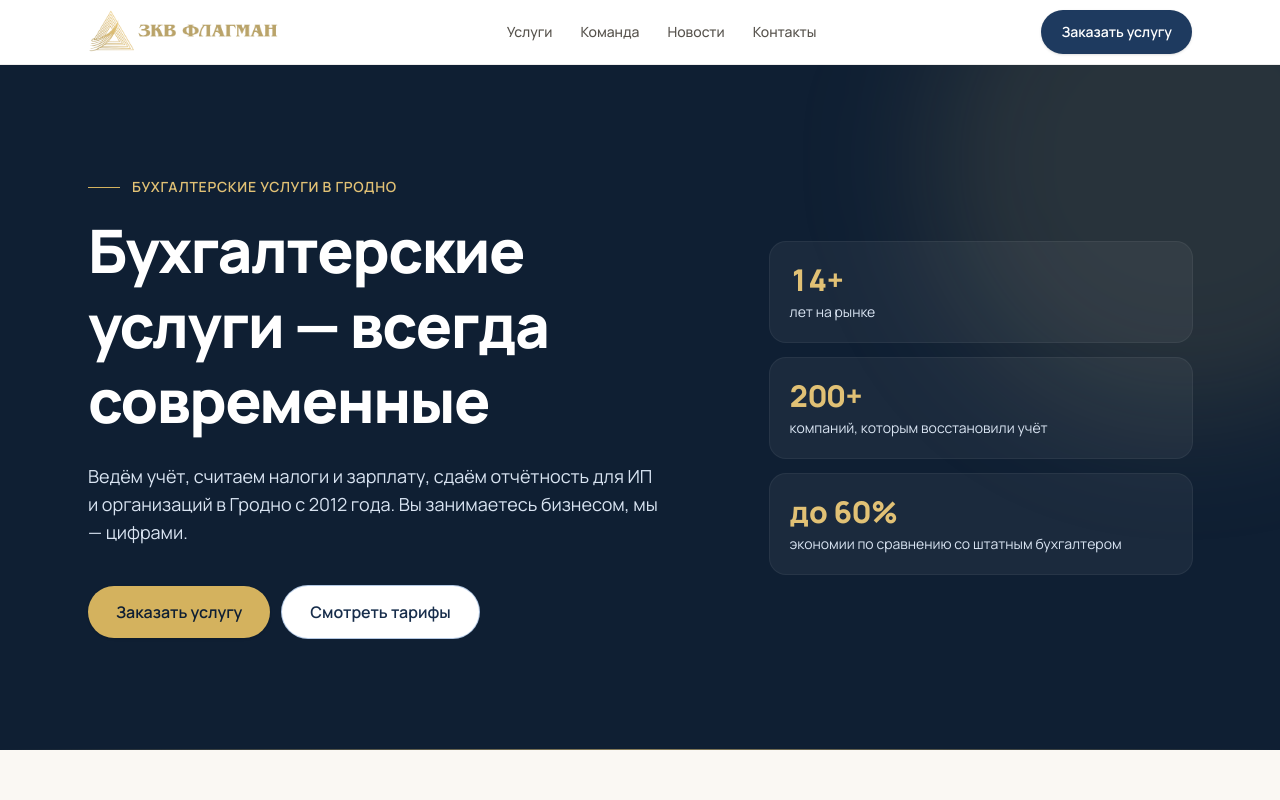
Scenario: App shell › renames the modal after a successful order and closes it with the button
The width and height of the screenshot is (1280, 800).
Click the 1st button "Заказать услугу" at (1117, 32), box [1041,10,1192,54]
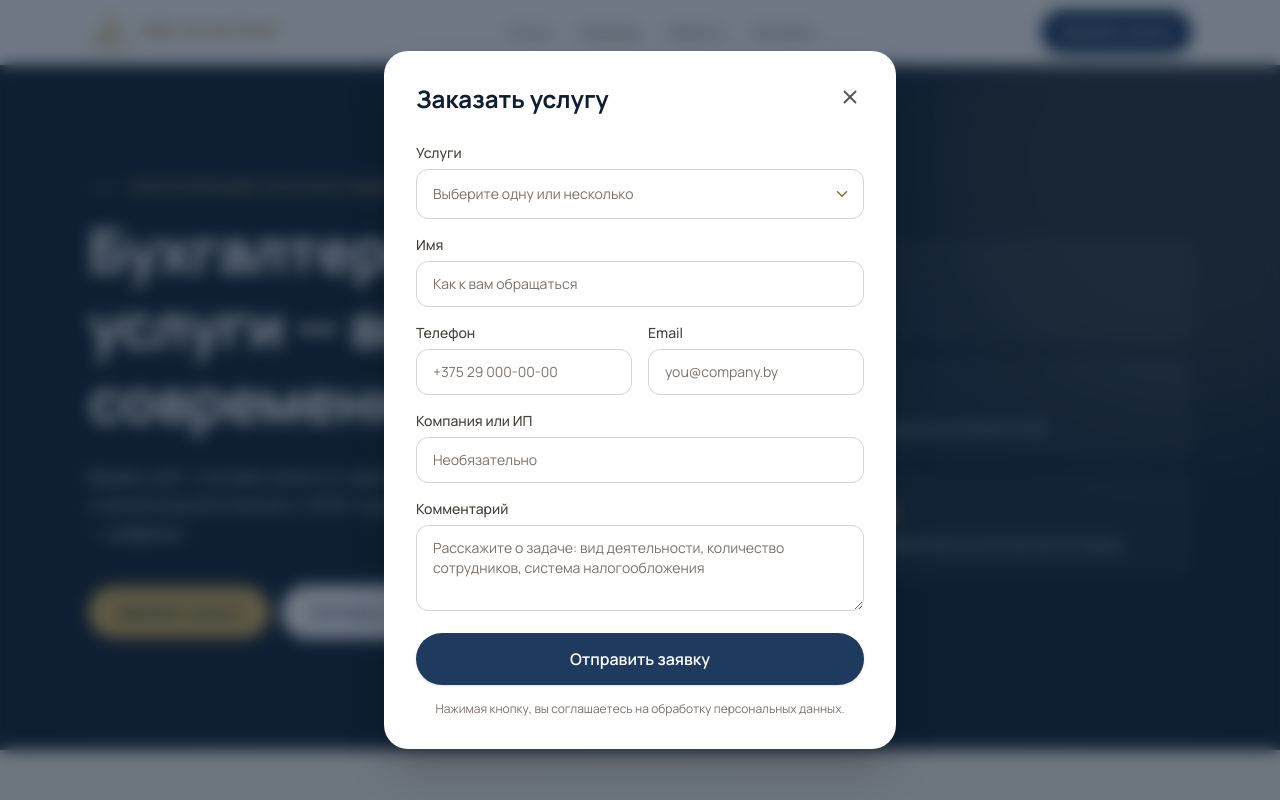
Type "Иван" into the field labelled "Имя" at (640, 284), box [416,261,864,307]
Type "+375 29 123-45-67" into the field labelled "Телефон" at (524, 372), box [416,349,632,395]
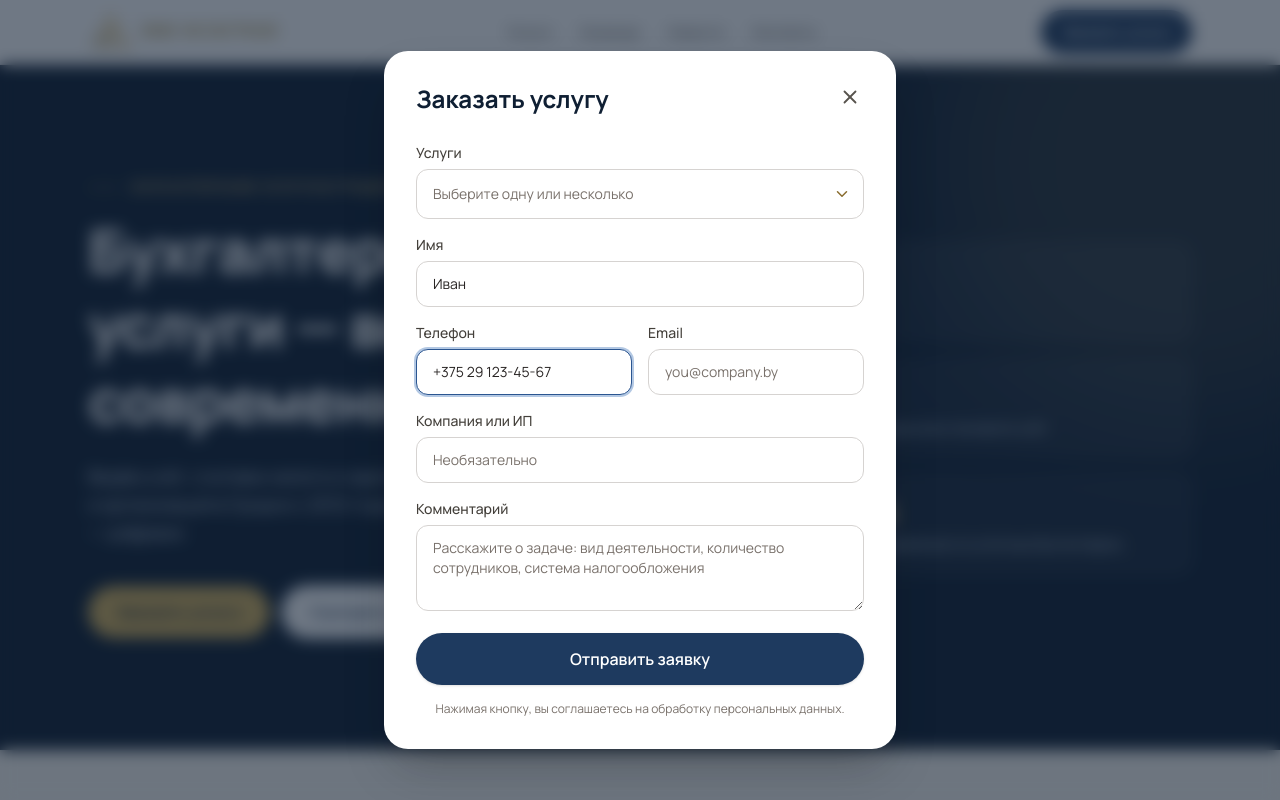
Type "ivan@example.com" into the field labelled "Email" at (756, 372), box [648,349,864,395]
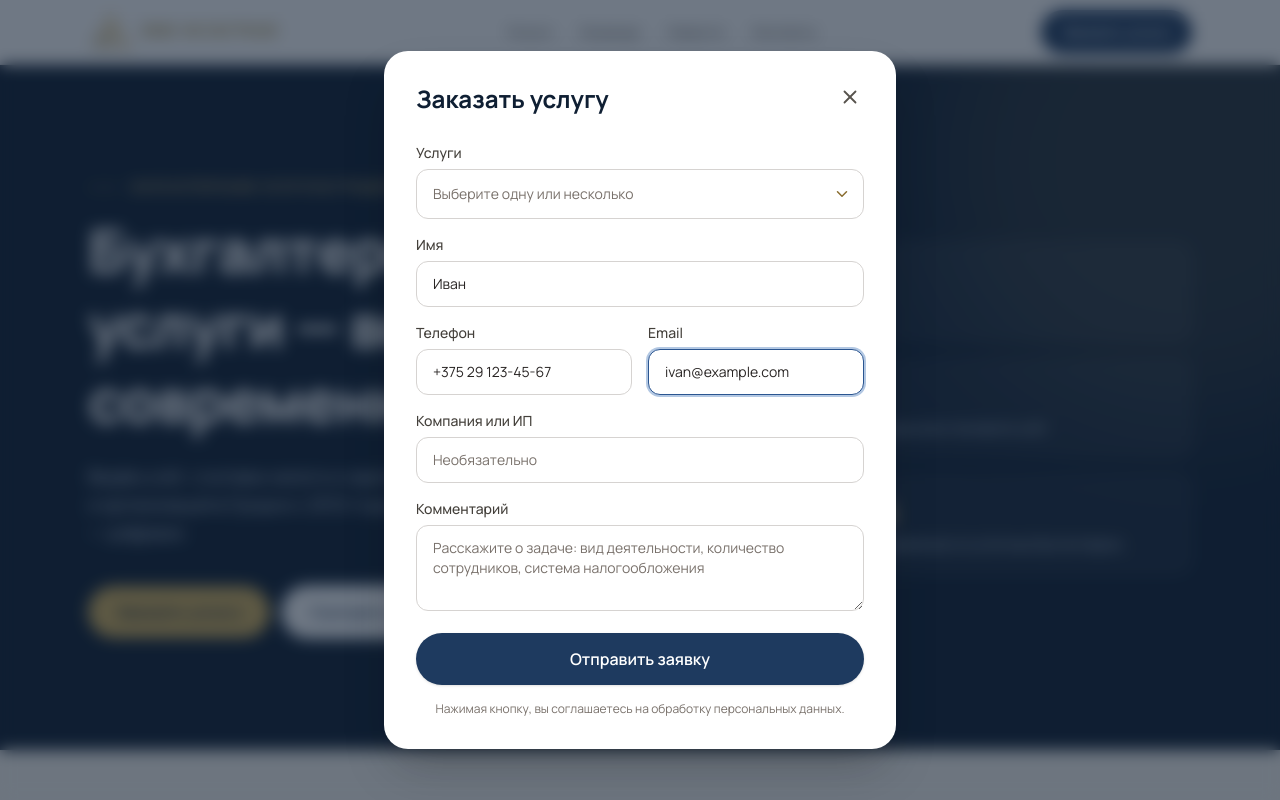
Click the button "Отправить заявку" at (640, 659), box [416,633,864,685]
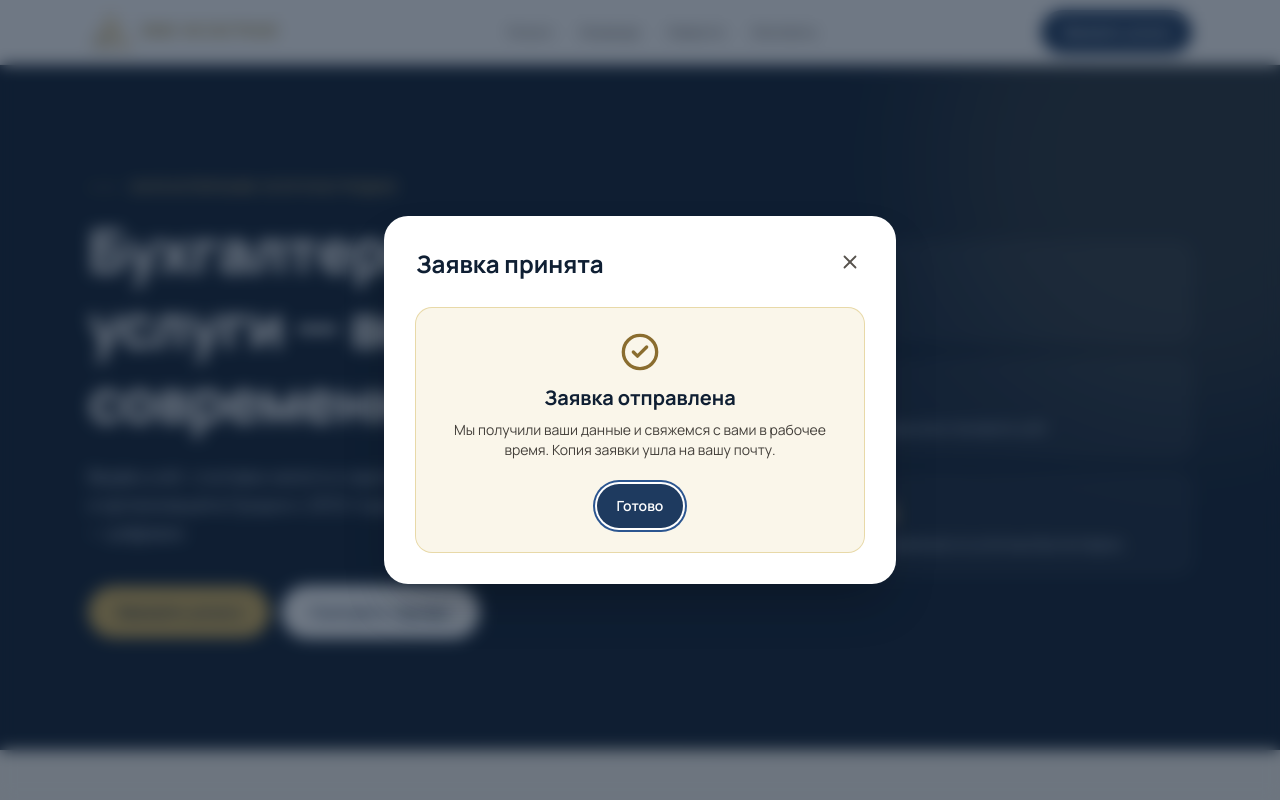
Click the button "Готово" at (640, 506), box [597,484,683,528]
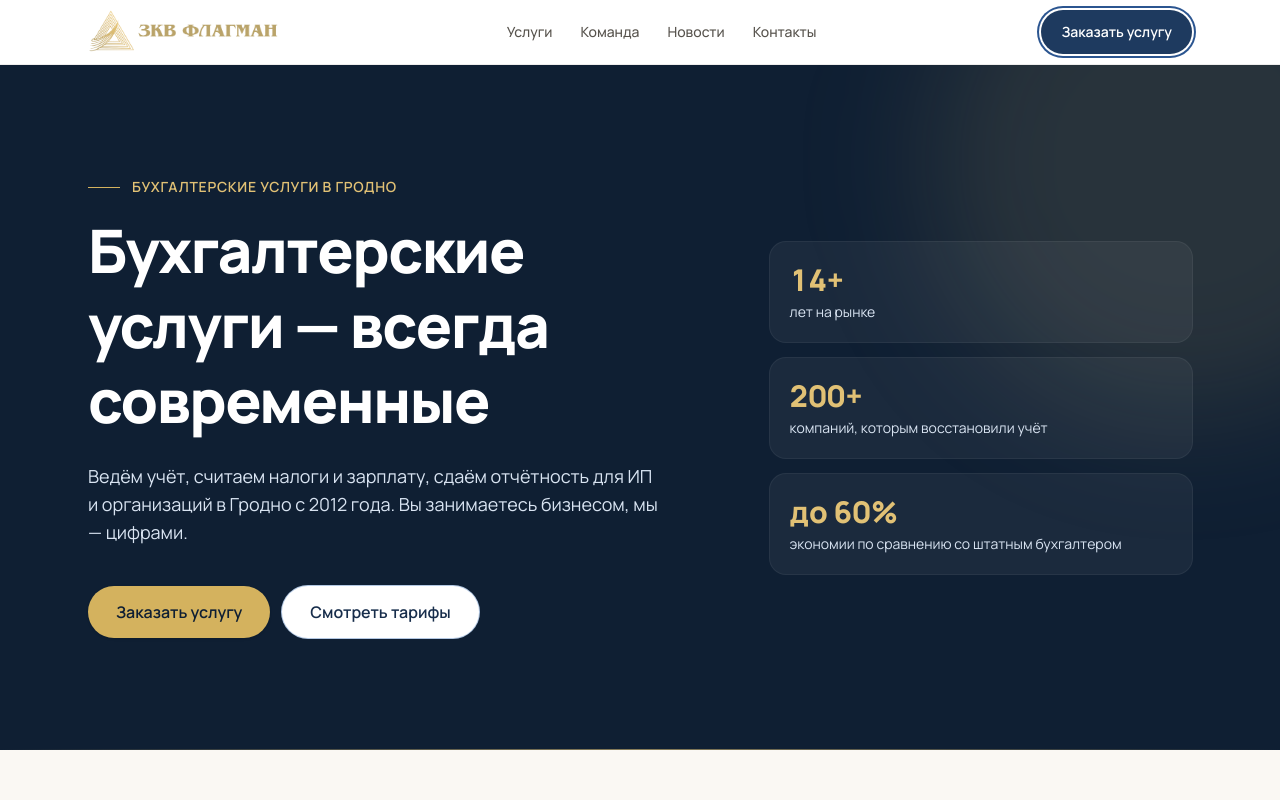
Expected: the dialog is gone
Click the 1st button "Заказать услугу" at (1117, 32), box [1041,10,1192,54]
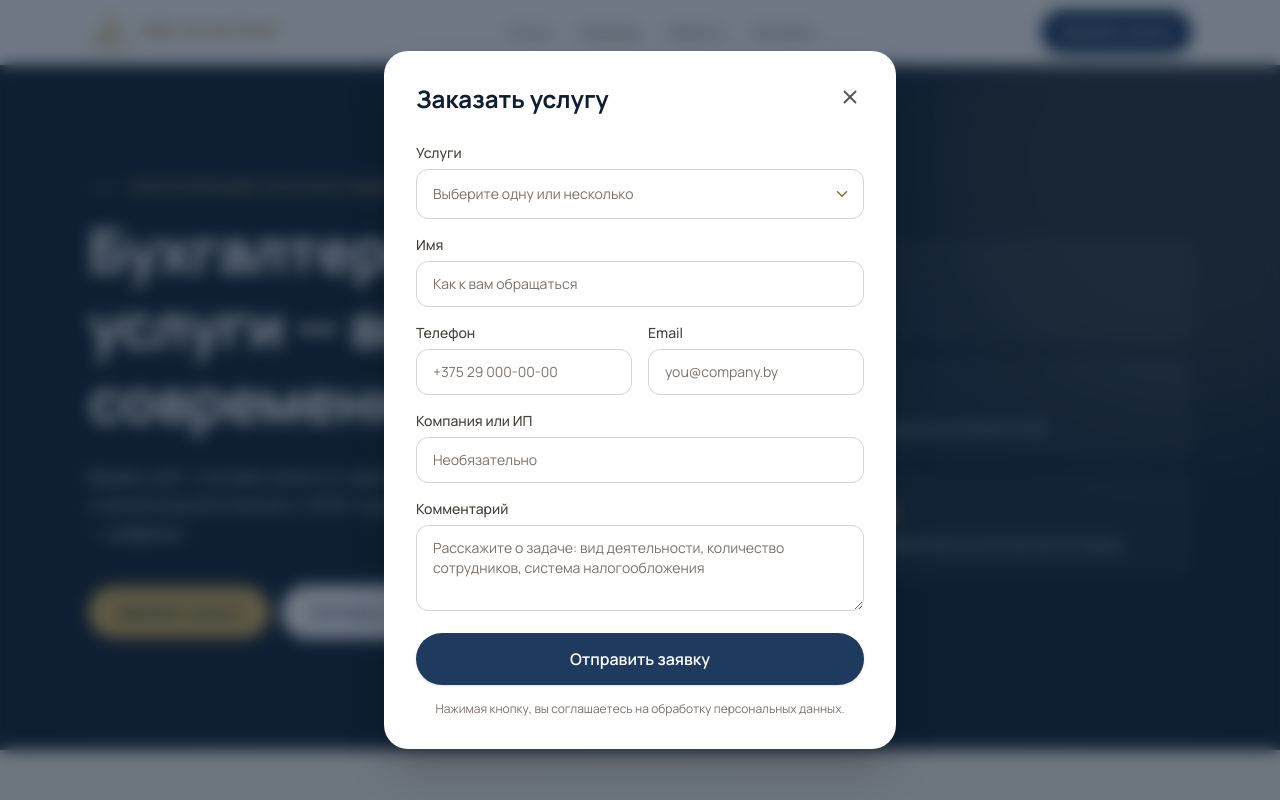
Expected: the dialog "Заказать услугу" is shown, [384,51,896,749]
